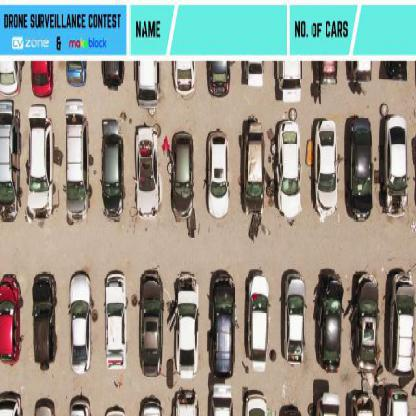car: (25, 105, 53, 227), (209, 270, 237, 376), (66, 101, 90, 223), (346, 116, 373, 222), (316, 272, 344, 374), (139, 269, 163, 377), (172, 133, 198, 232), (354, 272, 378, 376), (175, 272, 199, 376), (102, 116, 125, 220), (32, 273, 58, 365), (392, 272, 414, 380), (69, 272, 93, 370), (283, 271, 307, 366), (136, 126, 160, 220), (386, 113, 408, 215), (316, 118, 338, 218), (206, 128, 230, 219), (105, 271, 127, 368), (248, 272, 270, 367), (245, 120, 266, 215), (2, 275, 24, 364), (278, 122, 298, 202), (137, 64, 159, 111), (283, 62, 302, 104), (208, 62, 229, 98), (1, 63, 21, 97), (32, 62, 52, 96), (388, 387, 412, 415), (176, 62, 195, 94), (68, 61, 87, 87), (249, 64, 265, 88)
